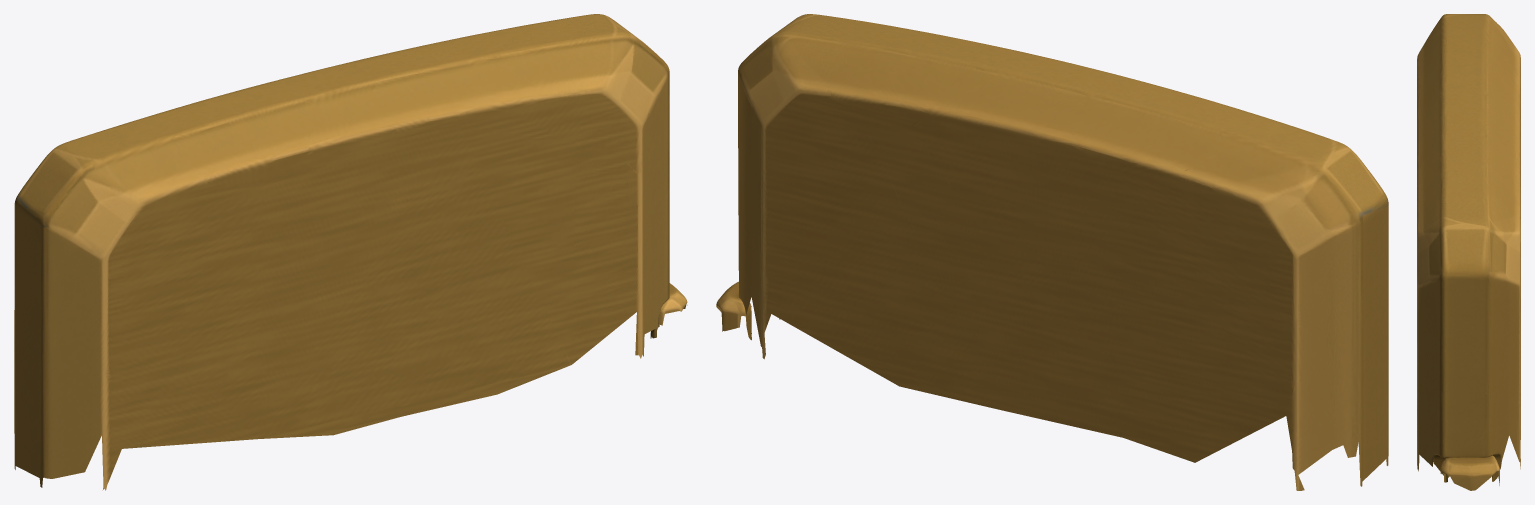
The model's file is zippo_lid.glb.
3 views of the same model, side by side, from view 1: azimuth 30°, elevation 25°; view 2: azimuth 150°, elevation 25°; view 3: azimuth 270°, elevation 25° (orthographic). The views are drawn at different scales.
Visible parts, largest first — view 1: lid; view 2: lid; view 3: lid.
Boxes of the visible parts, x1,y1,x2,y2 form: lid: (14,14,687,490); lid: (716,14,1388,490); lid: (1417,14,1520,490).
Bounding box in the file's own units: 0.0373 × 0.018 × 0.00649.
Materials: 1 (1 with a texture image).
